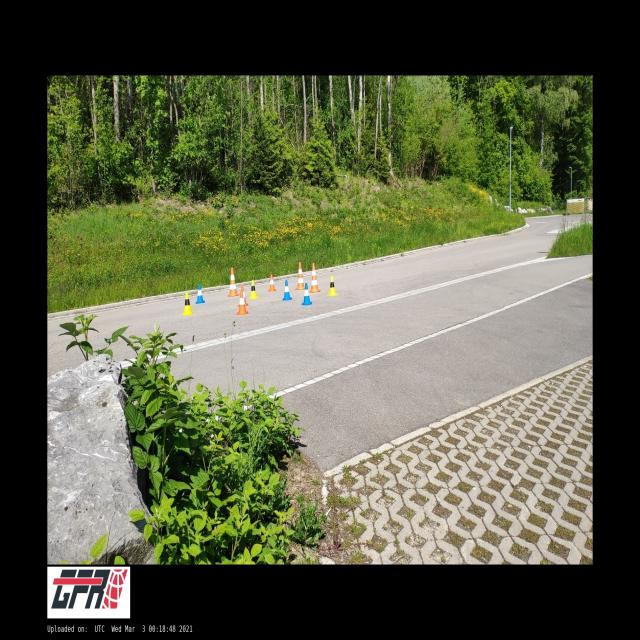blue_cone: (300, 283, 314, 305), (282, 280, 292, 300), (196, 284, 205, 304)
large_orange_cone: (227, 268, 240, 296), (309, 263, 321, 292), (295, 262, 304, 290)
orange_cone: (236, 291, 250, 314), (238, 285, 249, 306), (268, 275, 276, 291)
yellow_cone: (182, 292, 194, 315), (327, 276, 337, 296), (248, 280, 258, 299)
